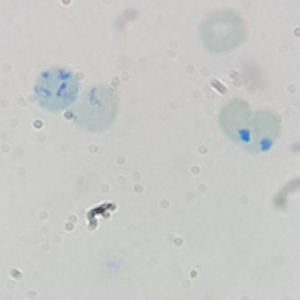aggregate reticulocyte: (33, 66, 81, 112)
erythrocyte: (198, 8, 249, 56), (73, 83, 119, 133), (217, 98, 257, 146), (245, 106, 283, 155)
